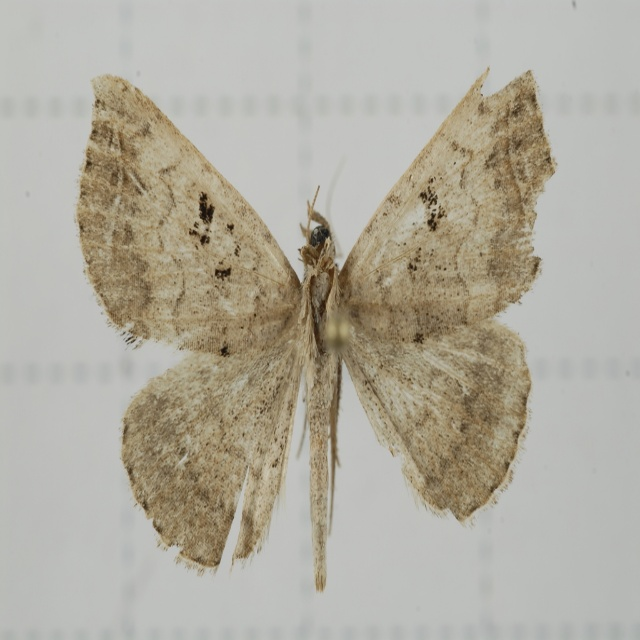Butterfly: (83, 81, 537, 604)
